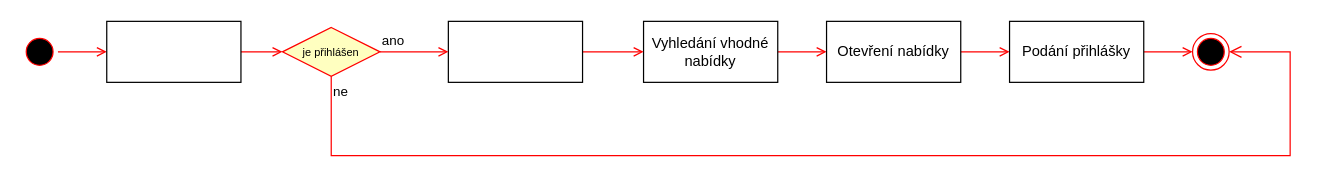
Image size: 1324x189. Some labels were removed from this diagram. Each missing label, with the centre of its shape:
"Přihlášení uživatele" goes at point (173, 51).
"Zobrazení stránky Nabídka" goes at point (515, 51).
